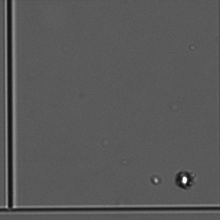Living Cell: (176, 165, 198, 191)
